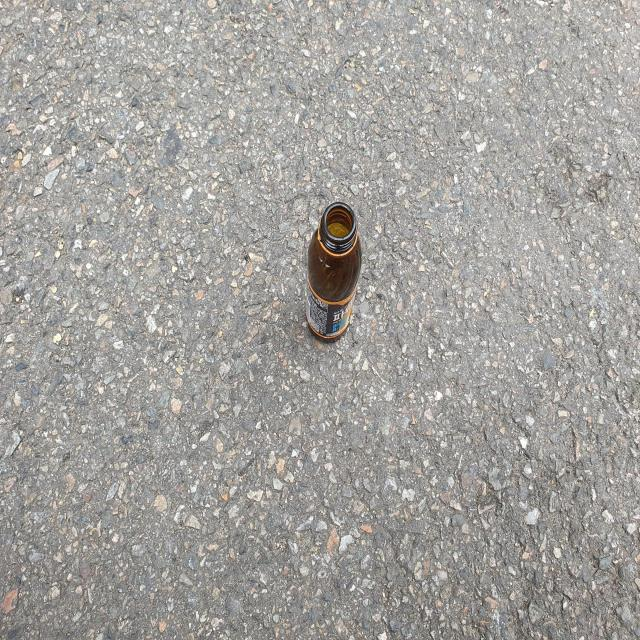glass: (306, 201, 362, 340)
